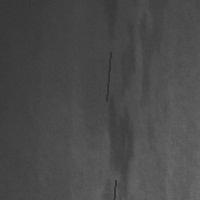inclusion: (103, 11, 136, 198), (139, 1, 172, 181), (99, 1, 122, 47), (104, 50, 112, 103), (111, 178, 117, 200)
